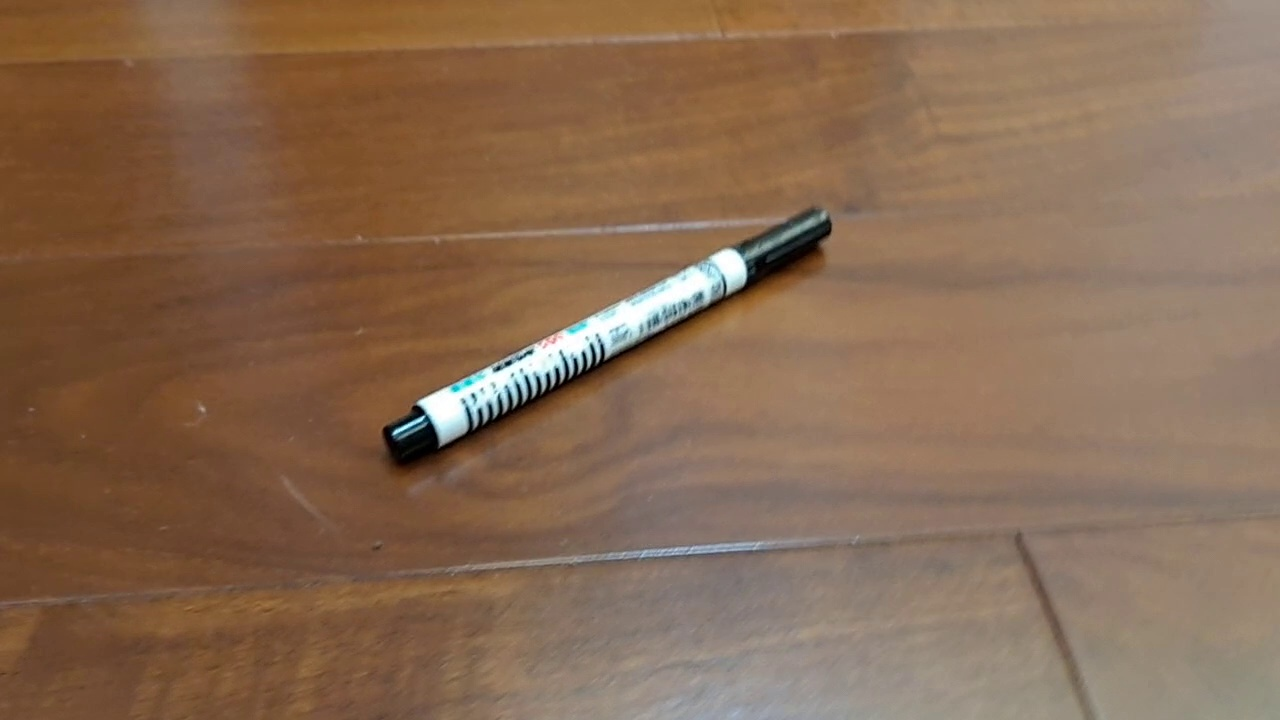pen: (381, 205, 832, 465)
